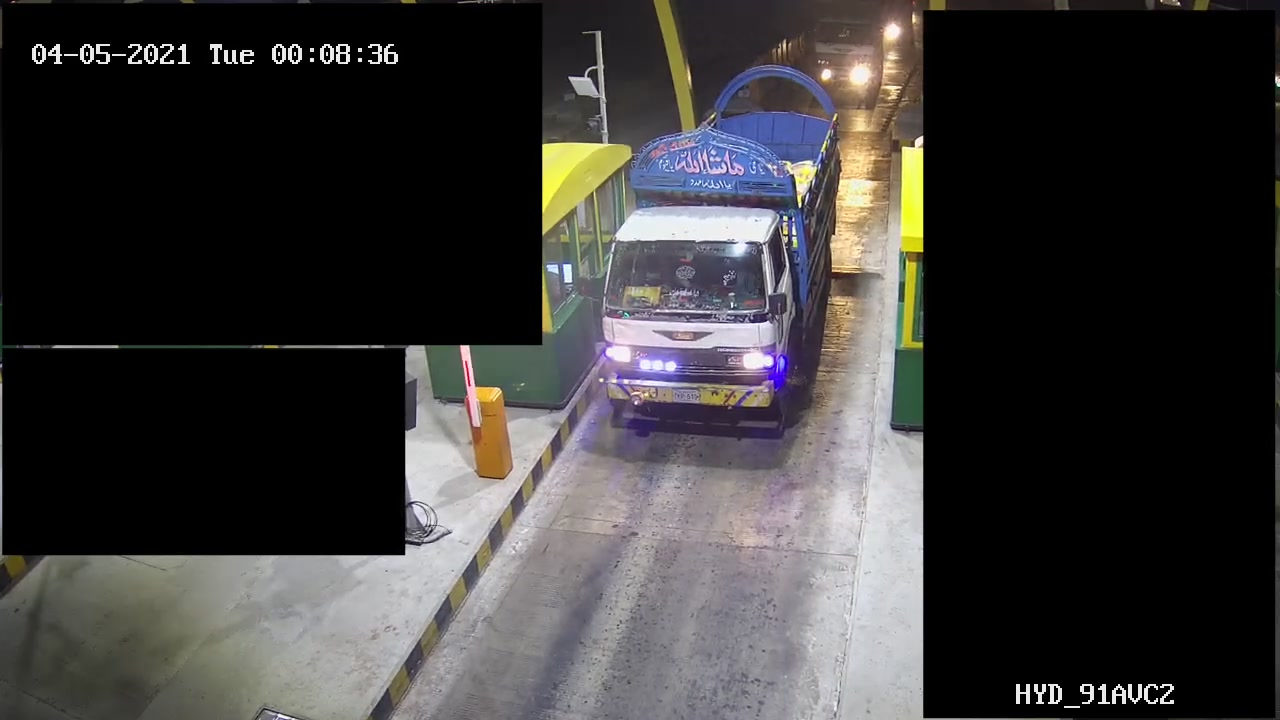F5: (600, 66, 847, 427)
